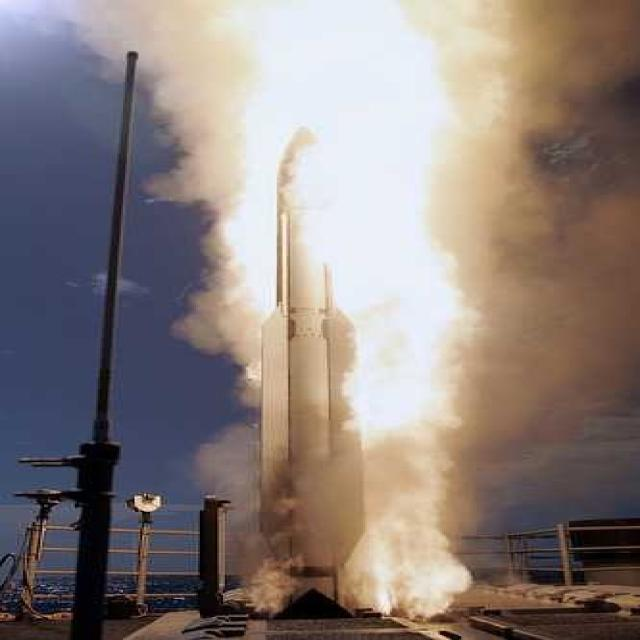missile: (256, 137, 357, 579)
